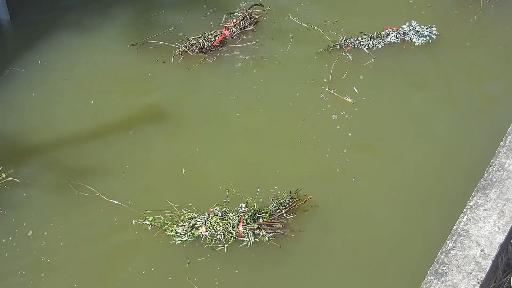twig: (70, 173, 334, 251), (287, 15, 477, 85), (141, 0, 264, 64), (0, 160, 20, 187)
